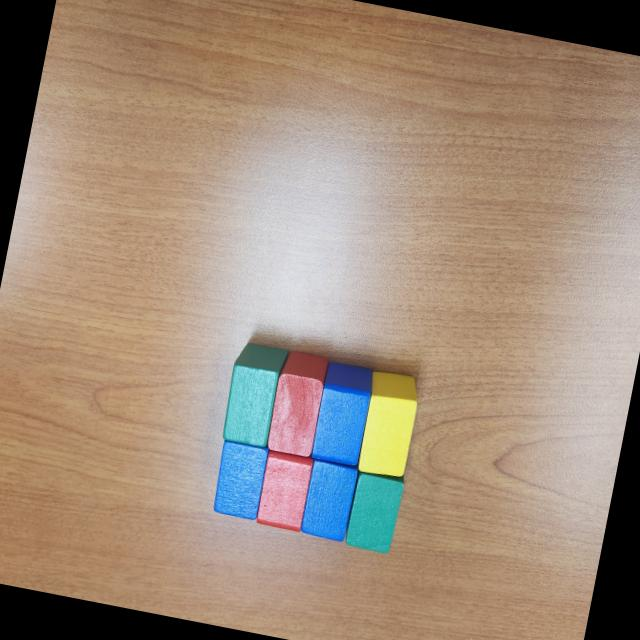blue: (308, 360, 378, 470), (296, 459, 362, 545), (210, 440, 272, 522)
green: (220, 338, 290, 452), (343, 470, 407, 558)
red: (264, 349, 330, 459), (255, 450, 315, 531)
yellow: (354, 370, 424, 480)
